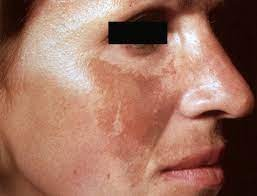Melasma: (83, 54, 175, 159), (192, 31, 239, 102)
